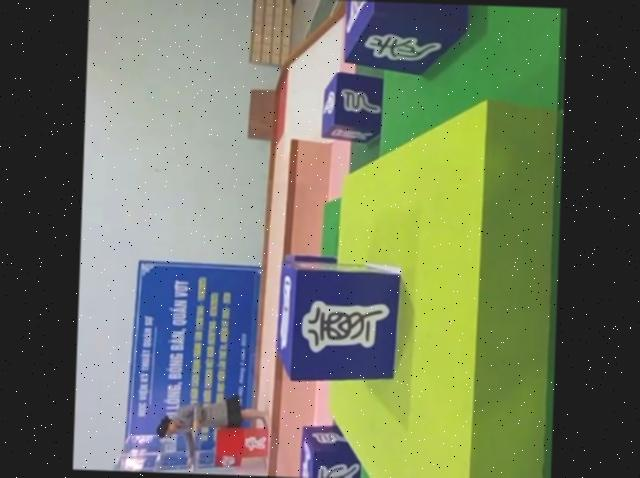R2 Fake Blue: (276, 256, 402, 384), (343, 1, 470, 75), (321, 70, 385, 143), (299, 423, 363, 478)
